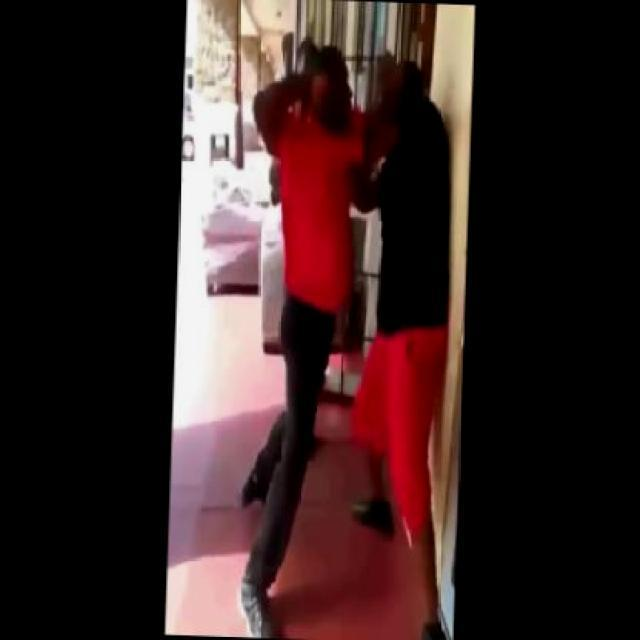fight: (240, 45, 458, 488)
